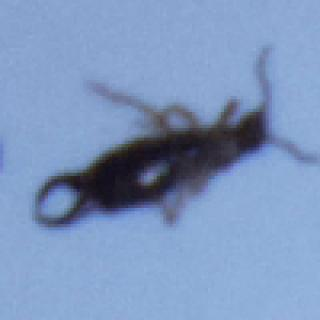earwig: (31, 41, 320, 233)
